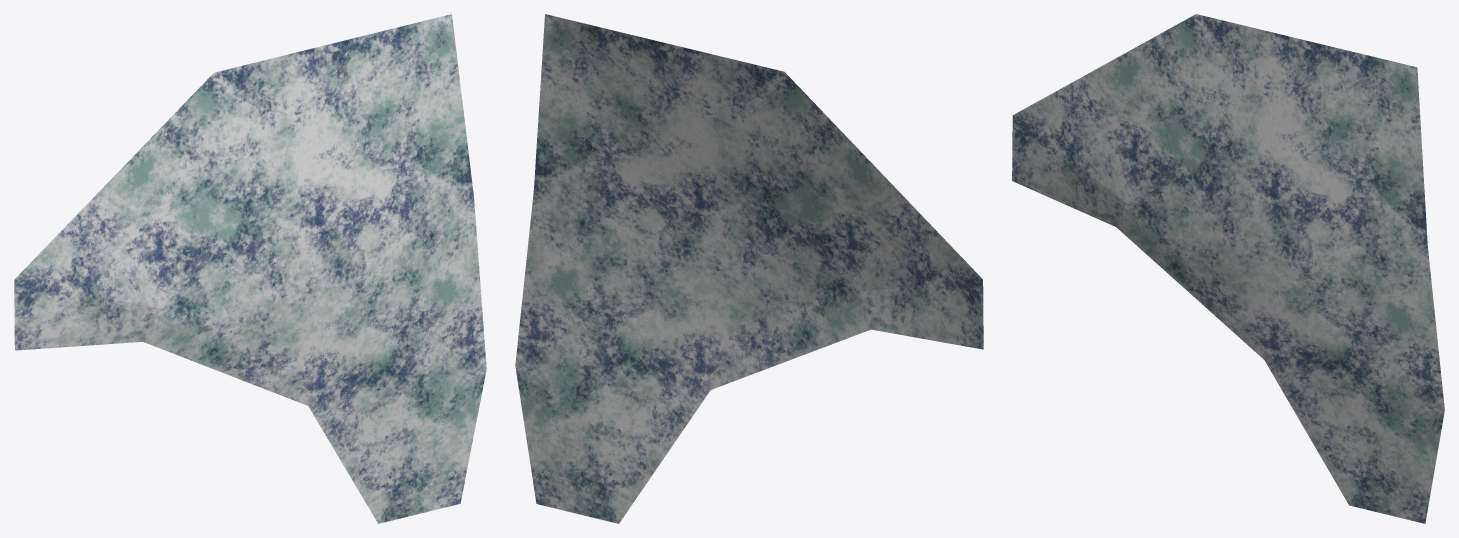
The model's file is SpiderWeb2.fbx.
3 renders of one model, left to right at view 1: azimuth 30°, elevation 25°; view 2: azimuth 150°, elevation 25°; view 3: azimuth 330°, elevation 25°, orthographic. The views are drawn at different scales.
Visible parts, largest first — view 1: SM_d_109_Cliff_Spiderweb_02a; view 2: SM_d_109_Cliff_Spiderweb_02a; view 3: SM_d_109_Cliff_Spiderweb_02a.
Boxes of the visible parts, x1,y1,x2,y2 form: SM_d_109_Cliff_Spiderweb_02a: [14, 14, 486, 523]; SM_d_109_Cliff_Spiderweb_02a: [515, 14, 983, 523]; SM_d_109_Cliff_Spiderweb_02a: [1012, 14, 1444, 523].
Size of the model in its own units: 1047 by 1047 by 68.02.
